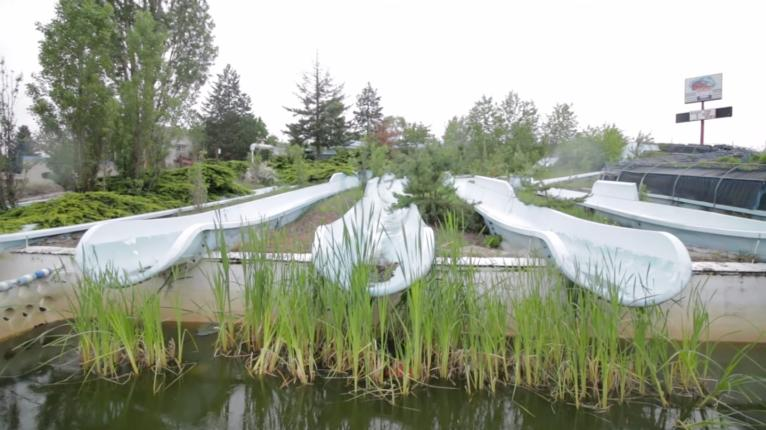overgrown grass: (216, 257, 744, 406), (66, 252, 177, 383)
